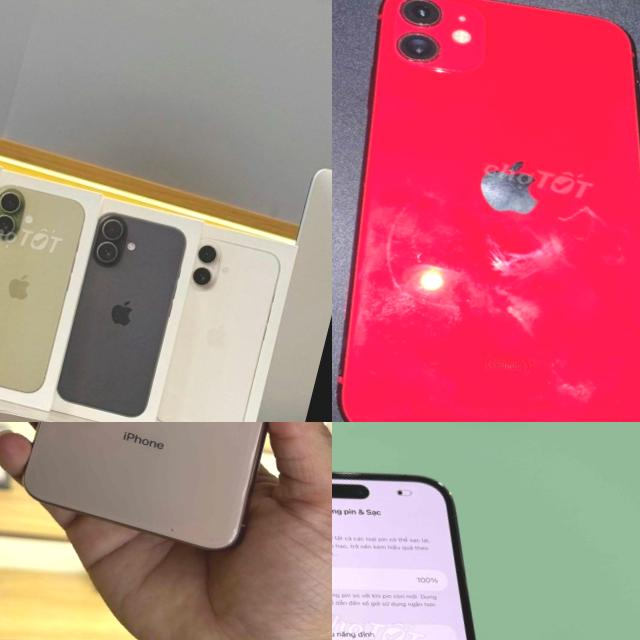scratch: (155, 518, 186, 542)
